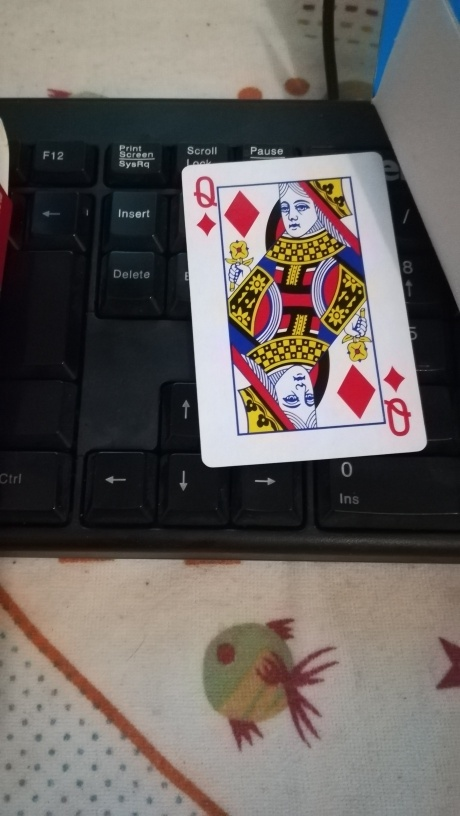fk q: (180, 150, 429, 466)
